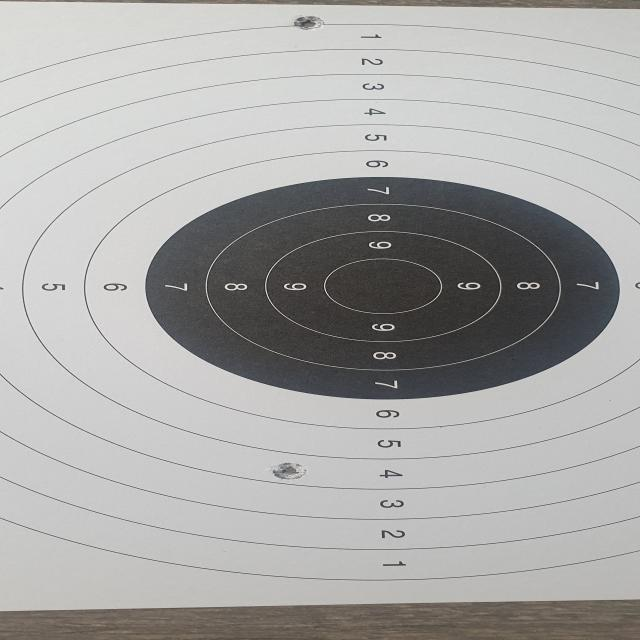1: (290, 15, 326, 31)
4: (268, 462, 308, 481)
Target: (0, 24, 640, 582)
black_contour: (145, 176, 620, 401)
